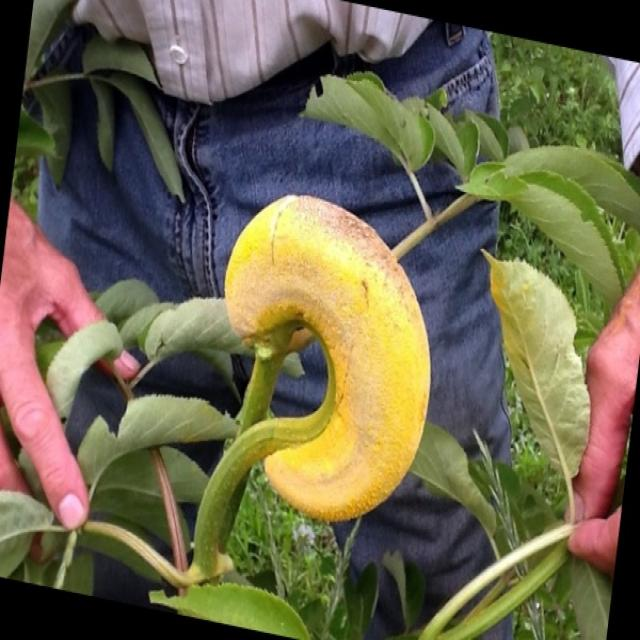Elderberry_rust: (221, 191, 432, 522)
